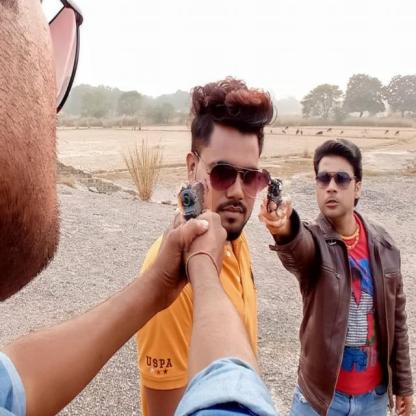handgun: (178, 180, 215, 252), (253, 170, 290, 226)
